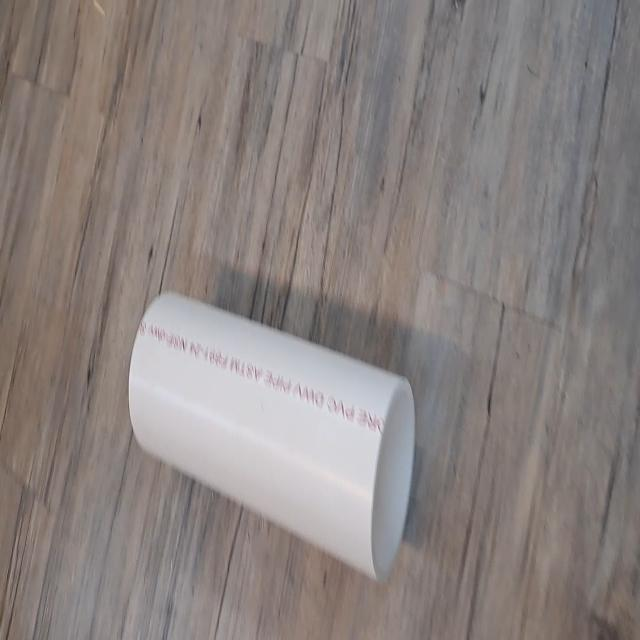CORAL: (126, 283, 420, 590)
